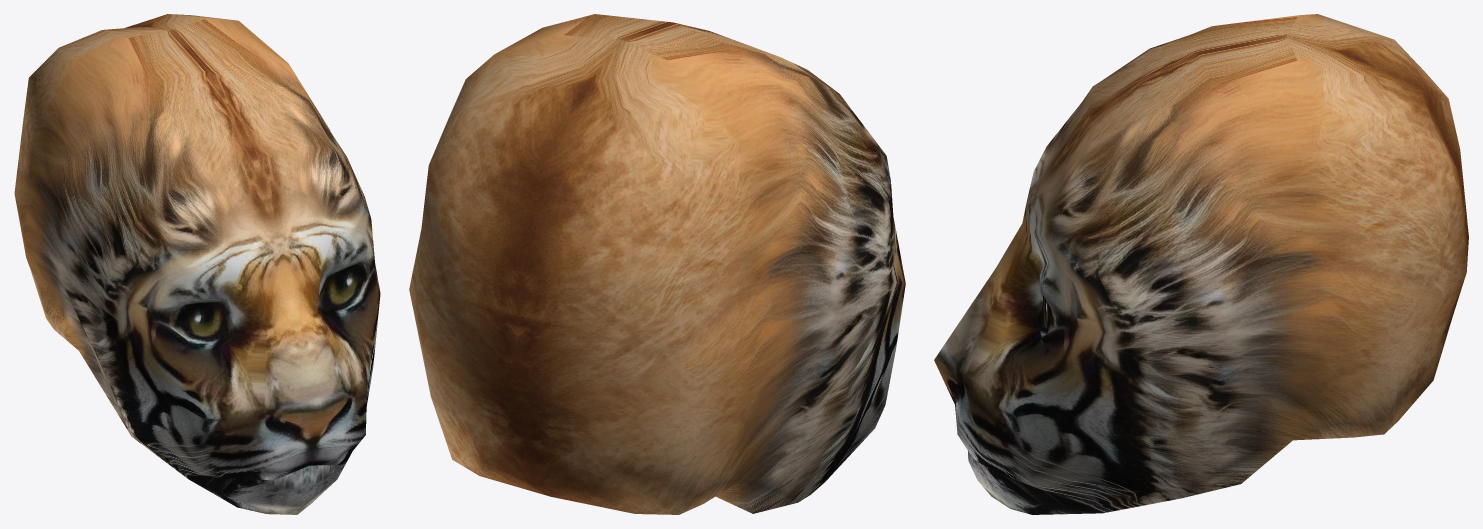
The model's file is b_n_khajiit_f_head_03.glb.
3 renders of one model, left to right at view 1: azimuth 30°, elevation 25°; view 2: azimuth 150°, elevation 25°; view 3: azimuth 270°, elevation 25°, orthographic. The views are drawn at different scales.
Parts seen in each view (by area): view 1: Tri B_N_Khajiit_F_Head_03; view 2: Tri B_N_Khajiit_F_Head_03; view 3: Tri B_N_Khajiit_F_Head_03.
Boxes of the visible parts, <box> form: Tri B_N_Khajiit_F_Head_03: <box>14,14,380,514</box>; Tri B_N_Khajiit_F_Head_03: <box>409,14,905,514</box>; Tri B_N_Khajiit_F_Head_03: <box>934,14,1468,514</box>.
Size of the model in its own units: 0.0988 by 0.14 by 0.1475.
1 material, 1 textured.
